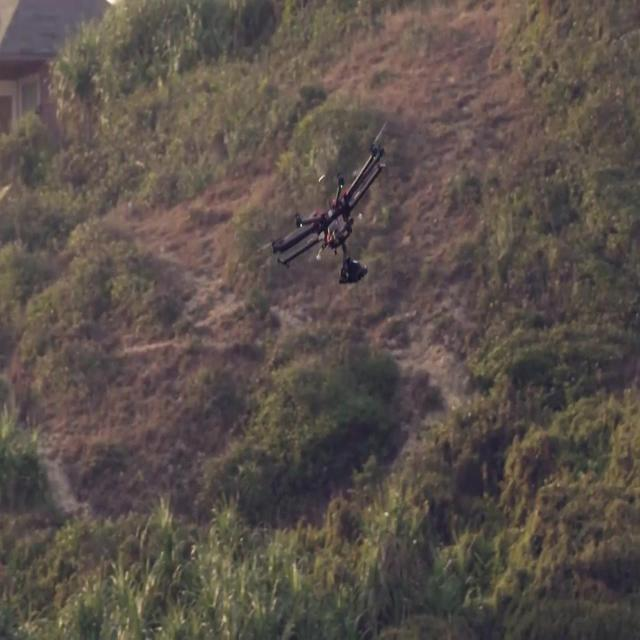UAV: (261, 118, 389, 284)
